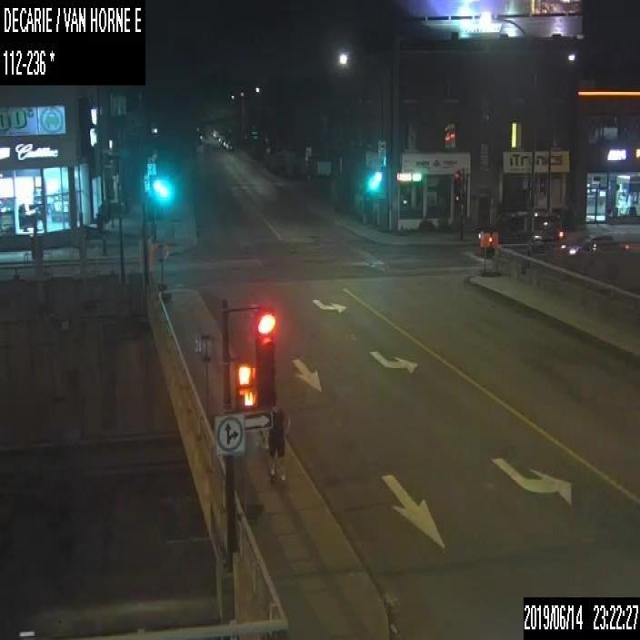construction: (196, 332, 218, 429), (241, 427, 262, 522), (154, 236, 171, 302), (490, 232, 501, 276), (478, 232, 488, 275)
pedestrian: (266, 401, 289, 479)
vehicle: (473, 209, 563, 251), (562, 232, 618, 255), (224, 139, 233, 150), (529, 209, 530, 211)
